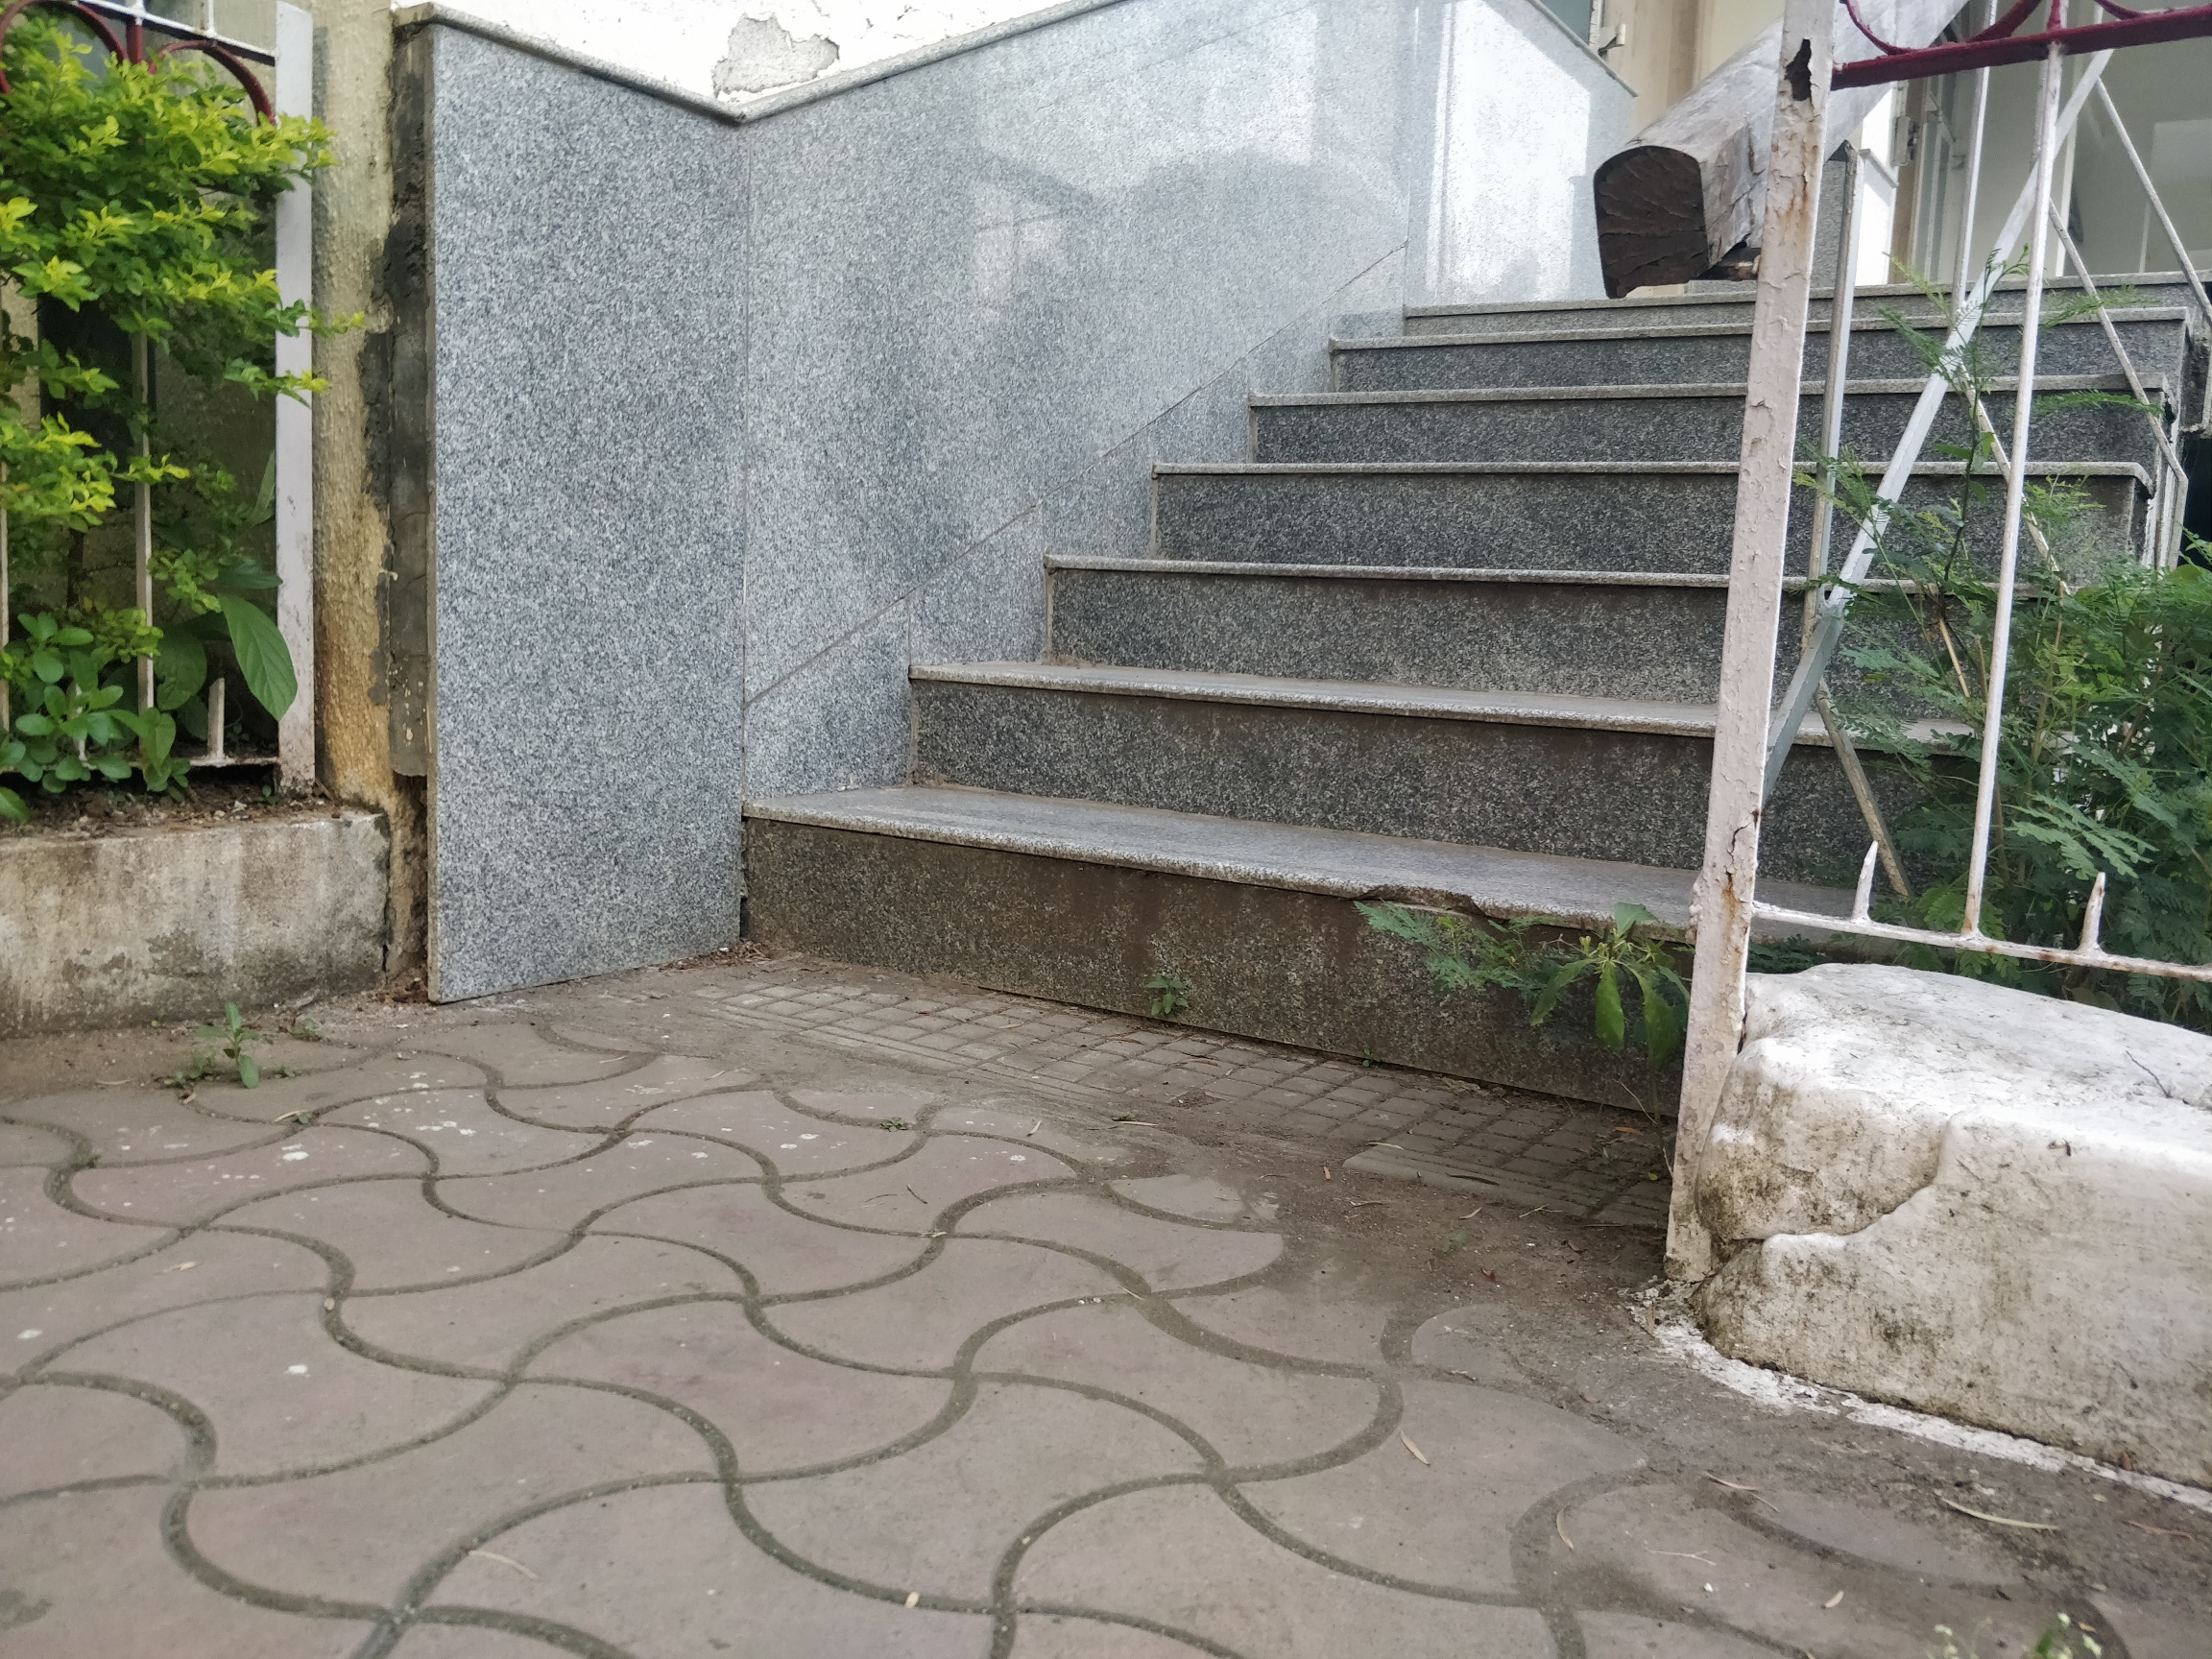stairs_up: (678, 254, 2189, 1096)
